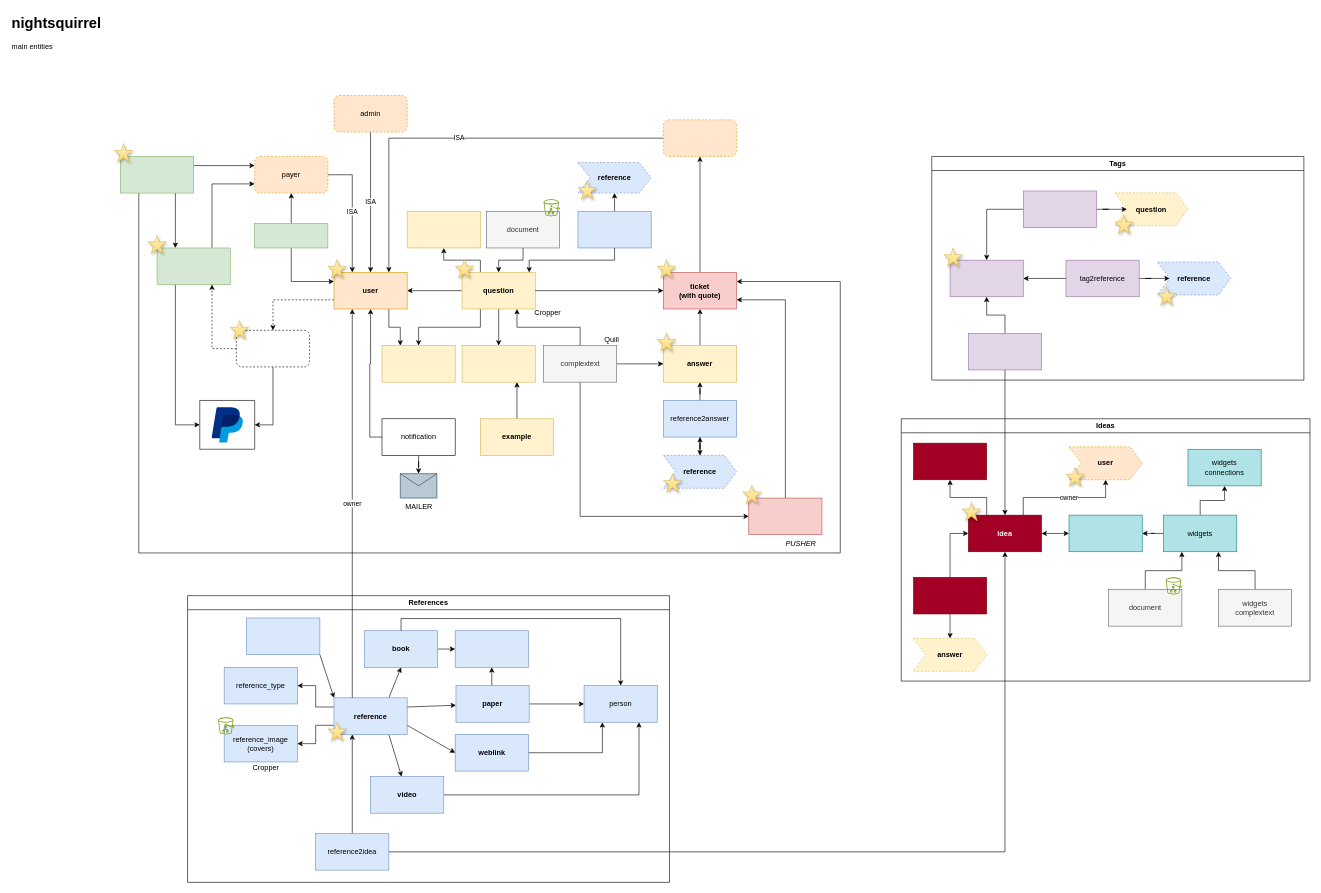
The diagram is 1321 pixels wide and 893 high, and some of its shapes have lost their labels. Here are the shapes that lost their labels. From the top down, the centre of each, then its label:
the point at 700,137: tutor
the point at 157,174: payment
the point at 443,229: subject
the point at 614,229: reference2question
the point at 1059,209: tag2question
the point at 291,235: payer_link
the point at 193,266: payment_method (Vault PayPal)
the point at 986,278: tag
the point at 273,348: Profile
the point at 418,363: schoolype
the point at 498,363: question_type
the point at 1005,351: tag2idea
the point at 950,461: idea-types
the point at 785,516: comment
the point at 1105,533: whiteboard
the point at 950,595: idea2answer
the point at 283,636: book_draft
the point at 491,648: publisher
